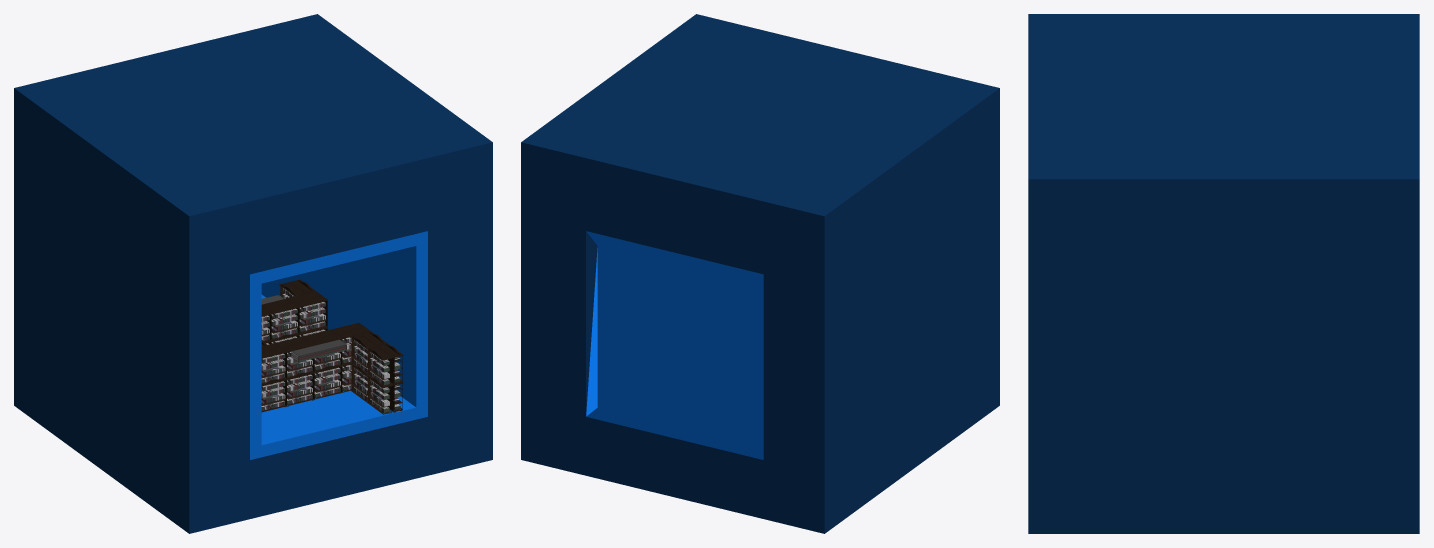
The picture shows the model from 3 angles, left to right: view 1: azimuth 30°, elevation 25°; view 2: azimuth 150°, elevation 25°; view 3: azimuth 270°, elevation 25°; orthographic projection. The views are drawn at different scales.
Visible parts, largest first — view 1: paredeTRUETRUE-col.004, PlanoTrue-col.004, livros.00-col.017, livros.00-col.021, livros.00-col.013, livros.00-col.006, livros.00-col.016, livros.00-col.018, livros.00-col.022, livros.00-col.005, livros.00-col.023, livros.00-col.009 (+1 smaller); view 2: paredeTRUETRUE-col.004, PlanoTrue-col.004; view 3: paredeTRUETRUE-col.004.
Boxes of the visible parts, x1,y1,x2,y2 form: paredeTRUETRUE-col.004: (14,14,492,533); PlanoTrue-col.004: (250,231,427,459); livros.00-col.017: (261,291,328,340); livros.00-col.021: (304,322,370,371); livros.00-col.013: (366,343,403,386); livros.00-col.006: (314,363,351,399); livros.00-col.016: (366,376,403,414); livros.00-col.018: (261,343,287,384); livros.00-col.022: (276,336,315,378); livros.00-col.005: (287,372,315,406); livros.00-col.023: (350,331,387,374); livros.00-col.009: (261,379,287,412); paredeTRUETRUE-col.004: (521,14,999,533); PlanoTrue-col.004: (586,231,763,459); paredeTRUETRUE-col.004: (1028,14,1419,533).
Bounding box in the file's own units: 509 × 509 × 509.
Materials: 389 (386 with a texture image).
